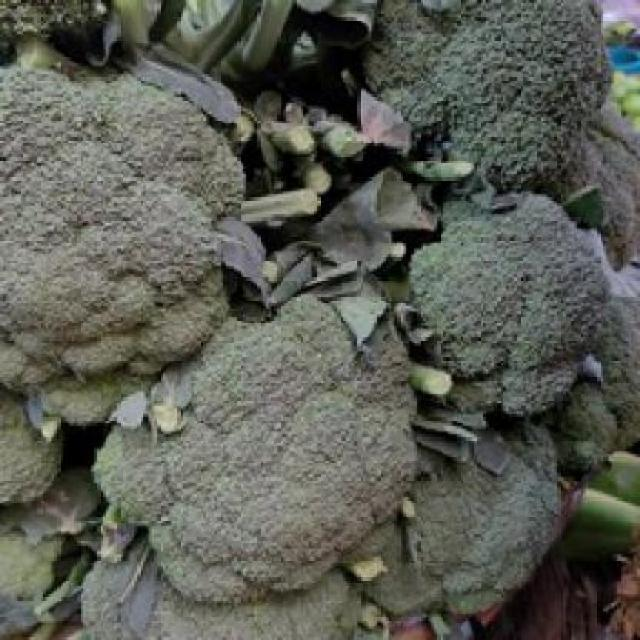broccoli: (100, 305, 417, 578), (0, 62, 216, 396), (372, 0, 635, 192), (408, 183, 612, 423), (388, 432, 566, 608)
